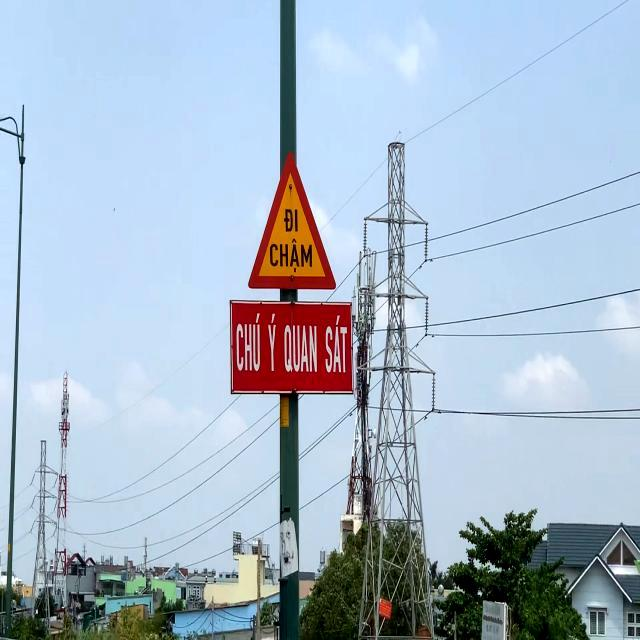Di cham: (243, 148, 341, 294)
